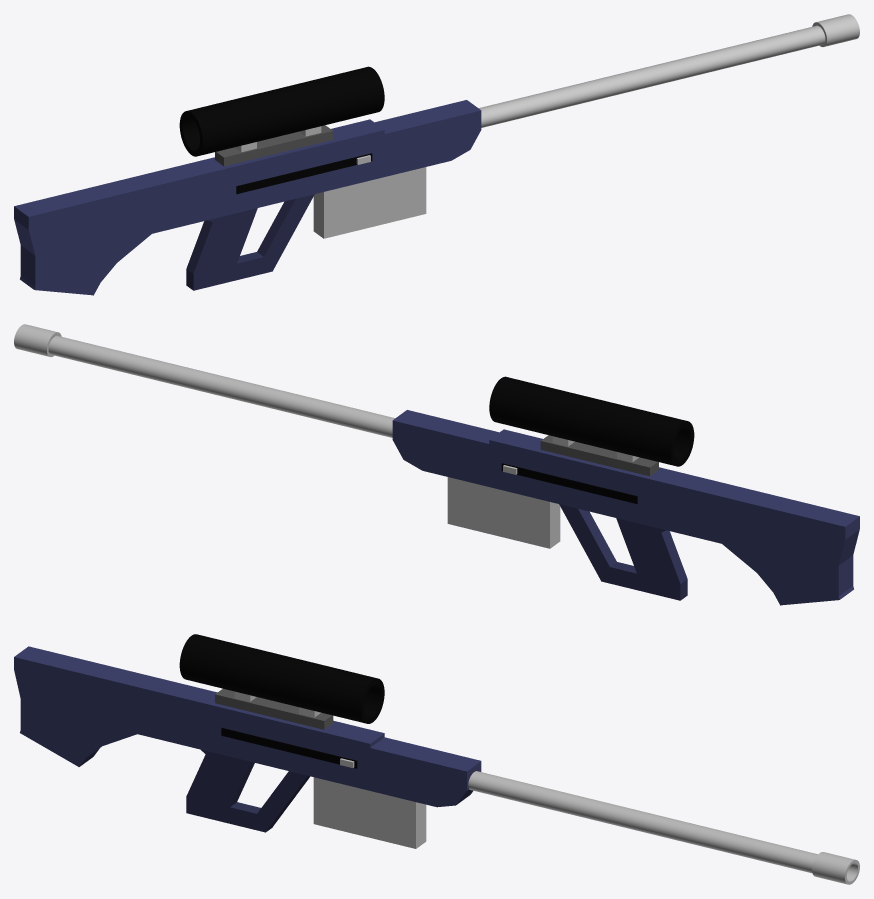
Rendered from sniper.glb.
3 renders of one model, top to bottom at view 1: azimuth 30°, elevation 25°; view 2: azimuth 150°, elevation 25°; view 3: azimuth 330°, elevation 25°, orthographic.
Visible parts, largest first — view 1: mesh_id27, mesh_id191, mesh_id102, mesh_id129, mesh_id127, mesh_id36, mesh_id90, mesh_id177, mesh_id121, mesh_id96, mesh_id72, mesh_id115 (+7 smaller); view 2: mesh_id102, mesh_id27, mesh_id191, mesh_id129, mesh_id127, mesh_id36, mesh_id96, mesh_id60, mesh_id72, mesh_id121, mesh_id177, mesh_id90 (+7 smaller); view 3: mesh_id27, mesh_id102, mesh_id191, mesh_id129, mesh_id127, mesh_id36, mesh_id90, mesh_id177, mesh_id115, mesh_id72, mesh_id78, mesh_id60 (+8 smaller).
Part boxes in pixels (box(x1,y1,x2,y2)): mesh_id27: box(139, 107, 451, 236); mesh_id191: box(179, 66, 384, 156); mesh_id102: box(24, 119, 384, 252); mesh_id129: box(478, 25, 825, 127); mesh_id127: box(313, 167, 426, 238); mesh_id36: box(186, 208, 257, 277); mesh_id90: box(20, 236, 78, 288); mesh_id177: box(215, 125, 333, 166); mesh_id121: box(257, 194, 314, 270); mesh_id96: box(14, 209, 79, 267); mesh_id72: box(70, 217, 134, 285); mesh_id115: box(193, 252, 272, 290); mesh_id102: box(489, 429, 849, 561); mesh_id27: box(422, 417, 734, 546); mesh_id191: box(489, 376, 694, 466); mesh_id129: box(48, 335, 395, 437); mesh_id127: box(447, 477, 560, 548); mesh_id36: box(616, 518, 687, 589); mesh_id96: box(793, 519, 859, 578); mesh_id60: box(713, 503, 776, 570); mesh_id72: box(739, 526, 803, 595); mesh_id121: box(559, 504, 616, 580); mesh_id177: box(540, 435, 658, 476); mesh_id90: box(795, 546, 853, 596); mesh_id27: box(125, 688, 451, 806); mesh_id102: box(23, 648, 384, 770); mesh_id191: box(179, 634, 384, 723); mesh_id129: box(468, 771, 817, 873); mesh_id127: box(313, 777, 426, 848); mesh_id36: box(186, 751, 254, 821); mesh_id90: box(20, 689, 63, 742); mesh_id177: box(215, 688, 333, 729); mesh_id115: box(186, 797, 272, 832); mesh_id72: box(61, 695, 119, 759); mesh_id78: box(45, 707, 99, 766); mesh_id60: box(82, 690, 145, 744).
Size of the model in its own units: 1.58 by 0.3187 by 0.0769.
27 materials, 27 textured.
